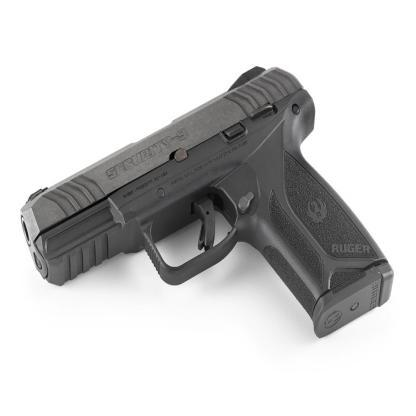Pistol: (19, 61, 396, 338)
